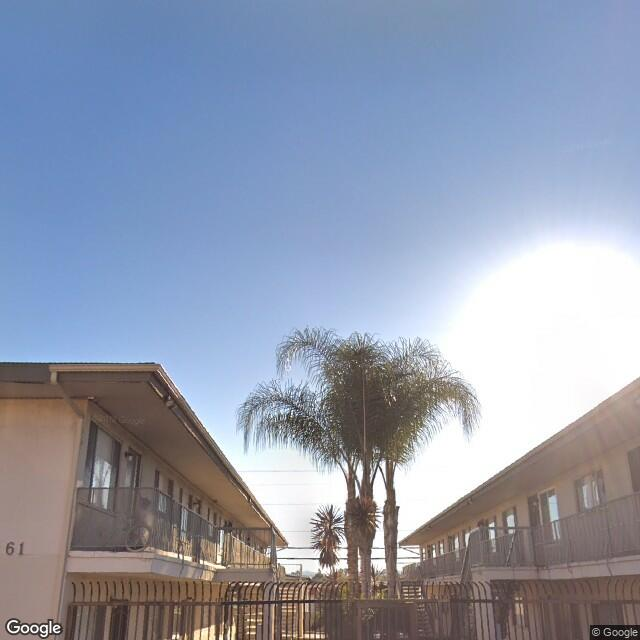window: (87, 422, 120, 500), (536, 489, 561, 536), (575, 472, 607, 505), (497, 500, 521, 538)
